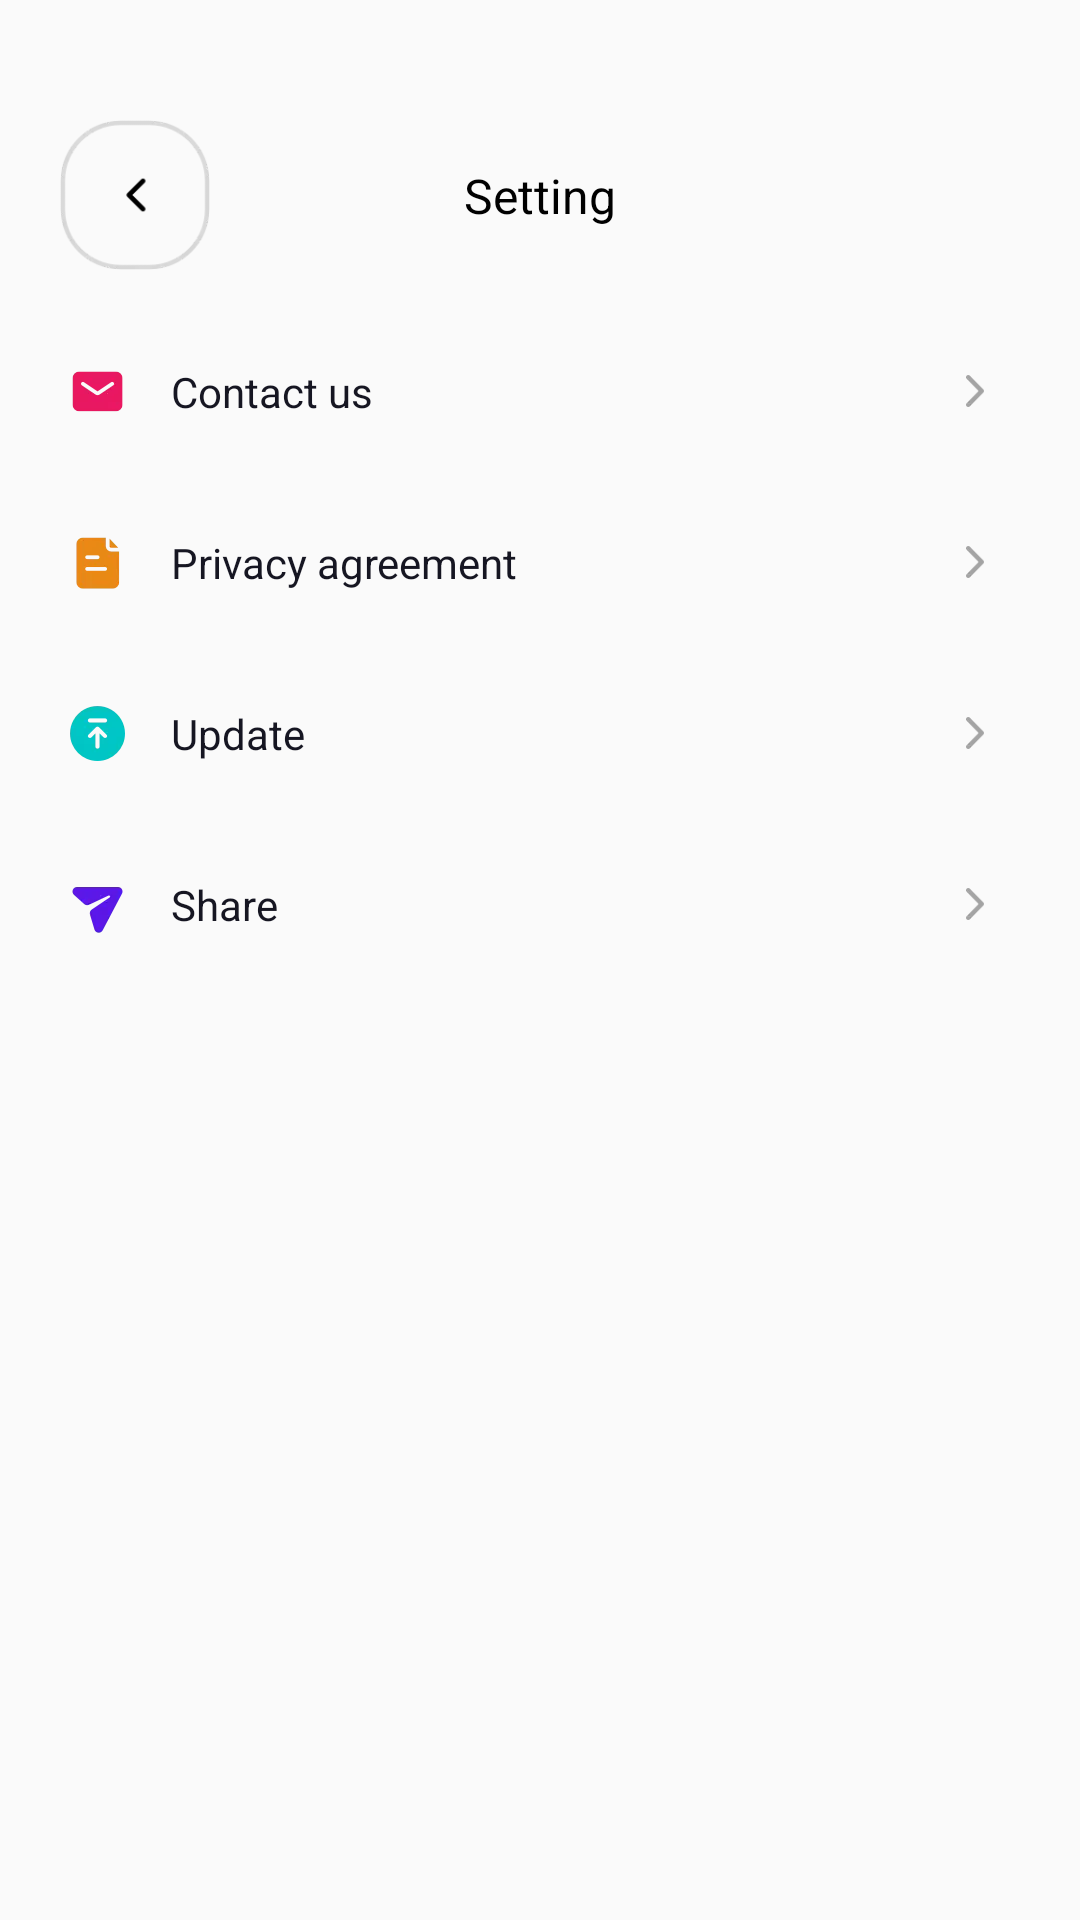

Icon bounding boxes for this 1080 × 1920 phone screenshot, format [left=x1, top=y1, right=x2, bottom=y2]:
back: [left=61, top=121, right=209, bottom=269]
